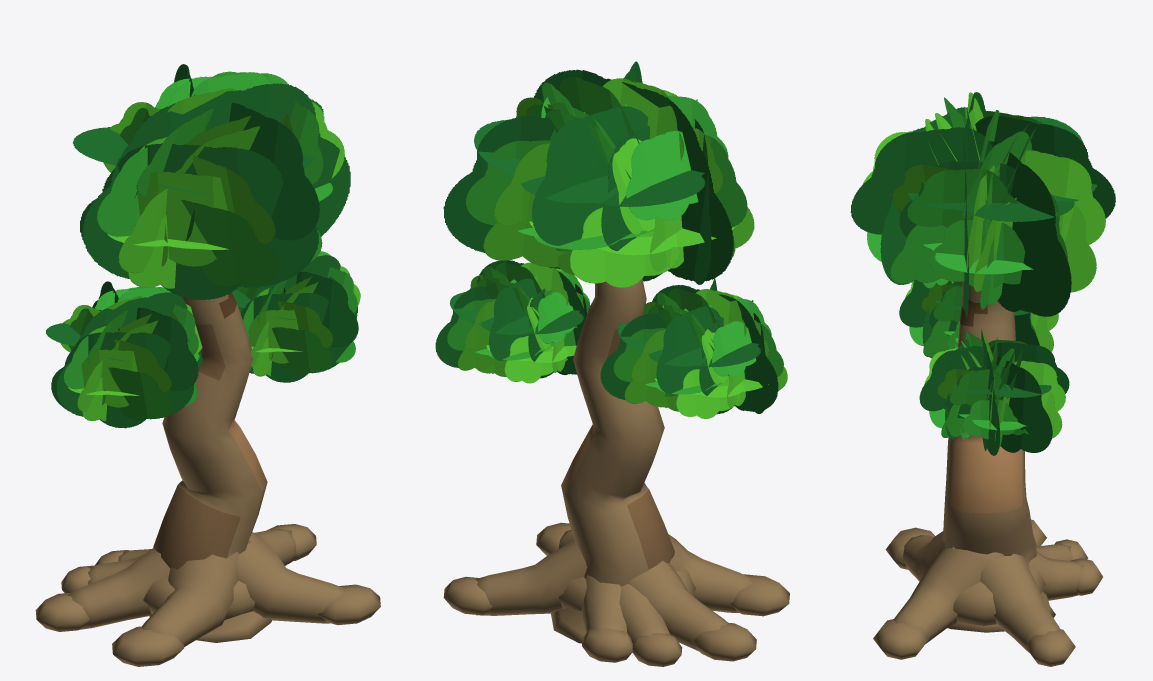
File: TREE_EUCALYPTUS_001_v015_LOD_CLOSE.glb
The picture shows the model from 3 angles, left to right: view 1: azimuth 30°, elevation 25°; view 2: azimuth 150°, elevation 25°; view 3: azimuth 270°, elevation 25°; orthographic projection. The views are drawn at different scales.
Parts seen in each view (by area): view 1: TREE_EUCALYPTUS_001_CLOSE_AUTHORED_FOLIAGE_ISLANDS, TREE_EUCALYPTUS_001_CLOSE_MAIN_TRUNK, TREE_EUCALYPTUS_001_CLOSE_ROOT_FRONT_LEFT, TREE_EUCALYPTUS_001_CLOSE_ROOT_FRONT_RIGHT, TREE_EUCALYPTUS_001_CLOSE_ROOT_LONG_LEFT, TREE_EUCALYPTUS_001_CLOSE_ROOT_TOE_FRONT_LEFT, TREE_EUCALYPTUS_001_CLOSE_ROOT_TOE_FRONT_RIGHT, TREE_EUCALYPTUS_001_CLOSE_ROOT_TOE_LONG_LEFT, TREE_EUCALYPTUS_001_CLOSE_SCULPTED_ROOT_COLLAR, TREE_EUCALYPTUS_001_CLOSE_BROAD_PLANTED_ROOT_MOUND, TREE_EUCALYPTUS_001_CLOSE_ROOT_RIGHT_SIDE, TREE_EUCALYPTUS_001_CLOSE_ROOT_TOE_RIGHT_SIDE (+2 smaller); view 2: TREE_EUCALYPTUS_001_CLOSE_AUTHORED_FOLIAGE_ISLANDS, TREE_EUCALYPTUS_001_CLOSE_MAIN_TRUNK, TREE_EUCALYPTUS_001_CLOSE_ROOT_RIGHT_SIDE, TREE_EUCALYPTUS_001_CLOSE_ROOT_LONG_LEFT, TREE_EUCALYPTUS_001_CLOSE_ROOT_FRONT_LEFT, TREE_EUCALYPTUS_001_CLOSE_ROOT_REAR_SHORT, TREE_EUCALYPTUS_001_CLOSE_ROOT_TOE_LONG_LEFT, TREE_EUCALYPTUS_001_CLOSE_ROOT_TOE_FRONT_LEFT, TREE_EUCALYPTUS_001_CLOSE_ROOT_LEFT_REAR, TREE_EUCALYPTUS_001_CLOSE_ROOT_TOE_REAR_SHORT, TREE_EUCALYPTUS_001_CLOSE_ROOT_TOE_LEFT_REAR, TREE_EUCALYPTUS_001_CLOSE_ROOT_TOE_RIGHT_SIDE (+3 smaller); view 3: TREE_EUCALYPTUS_001_CLOSE_AUTHORED_FOLIAGE_ISLANDS, TREE_EUCALYPTUS_001_CLOSE_MAIN_TRUNK, TREE_EUCALYPTUS_001_CLOSE_ROOT_FRONT_RIGHT, TREE_EUCALYPTUS_001_CLOSE_ROOT_RIGHT_SIDE, TREE_EUCALYPTUS_001_CLOSE_BROAD_PLANTED_ROOT_MOUND, TREE_EUCALYPTUS_001_CLOSE_ROOT_REAR_SHORT, TREE_EUCALYPTUS_001_CLOSE_ROOT_TOE_FRONT_RIGHT, TREE_EUCALYPTUS_001_CLOSE_ROOT_TOE_RIGHT_SIDE, TREE_EUCALYPTUS_001_CLOSE_ROOT_FRONT_LEFT, TREE_EUCALYPTUS_001_CLOSE_ROOT_TOE_FRONT_LEFT, TREE_EUCALYPTUS_001_CLOSE_ROOT_TOE_REAR_SHORT, TREE_EUCALYPTUS_001_CLOSE_SCULPTED_ROOT_COLLAR (+1 smaller).
Part boxes in pixels (box(x1,y1,x2,y2)): TREE_EUCALYPTUS_001_CLOSE_AUTHORED_FOLIAGE_ISLANDS: box(46, 64, 360, 428); TREE_EUCALYPTUS_001_CLOSE_MAIN_TRUNK: box(153, 292, 267, 569); TREE_EUCALYPTUS_001_CLOSE_ROOT_FRONT_LEFT: box(142, 540, 250, 646); TREE_EUCALYPTUS_001_CLOSE_ROOT_FRONT_RIGHT: box(236, 532, 346, 623); TREE_EUCALYPTUS_001_CLOSE_ROOT_LONG_LEFT: box(67, 548, 170, 629); TREE_EUCALYPTUS_001_CLOSE_ROOT_TOE_FRONT_LEFT: box(112, 626, 184, 666); TREE_EUCALYPTUS_001_CLOSE_ROOT_TOE_FRONT_RIGHT: box(318, 584, 380, 625); TREE_EUCALYPTUS_001_CLOSE_ROOT_TOE_LONG_LEFT: box(35, 592, 89, 631); TREE_EUCALYPTUS_001_CLOSE_SCULPTED_ROOT_COLLAR: box(149, 611, 272, 642); TREE_EUCALYPTUS_001_CLOSE_BROAD_PLANTED_ROOT_MOUND: box(143, 577, 254, 619); TREE_EUCALYPTUS_001_CLOSE_ROOT_RIGHT_SIDE: box(252, 529, 295, 565); TREE_EUCALYPTUS_001_CLOSE_ROOT_TOE_RIGHT_SIDE: box(266, 524, 316, 560); TREE_EUCALYPTUS_001_CLOSE_AUTHORED_FOLIAGE_ISLANDS: box(435, 61, 787, 418); TREE_EUCALYPTUS_001_CLOSE_MAIN_TRUNK: box(561, 279, 674, 586); TREE_EUCALYPTUS_001_CLOSE_ROOT_RIGHT_SIDE: box(475, 540, 587, 615); TREE_EUCALYPTUS_001_CLOSE_ROOT_LONG_LEFT: box(629, 560, 727, 651); TREE_EUCALYPTUS_001_CLOSE_ROOT_FRONT_LEFT: box(668, 534, 752, 612); TREE_EUCALYPTUS_001_CLOSE_ROOT_REAR_SHORT: box(581, 575, 627, 632); TREE_EUCALYPTUS_001_CLOSE_ROOT_TOE_LONG_LEFT: box(692, 622, 756, 661); TREE_EUCALYPTUS_001_CLOSE_ROOT_TOE_FRONT_LEFT: box(730, 574, 789, 616); TREE_EUCALYPTUS_001_CLOSE_ROOT_LEFT_REAR: box(619, 584, 669, 643); TREE_EUCALYPTUS_001_CLOSE_ROOT_TOE_REAR_SHORT: box(582, 628, 632, 662); TREE_EUCALYPTUS_001_CLOSE_ROOT_TOE_LEFT_REAR: box(632, 633, 682, 666); TREE_EUCALYPTUS_001_CLOSE_ROOT_TOE_RIGHT_SIDE: box(443, 576, 492, 615); TREE_EUCALYPTUS_001_CLOSE_AUTHORED_FOLIAGE_ISLANDS: box(850, 92, 1115, 455); TREE_EUCALYPTUS_001_CLOSE_MAIN_TRUNK: box(942, 281, 1036, 567); TREE_EUCALYPTUS_001_CLOSE_ROOT_FRONT_RIGHT: box(894, 548, 1004, 643); TREE_EUCALYPTUS_001_CLOSE_ROOT_RIGHT_SIDE: box(980, 553, 1059, 652); TREE_EUCALYPTUS_001_CLOSE_BROAD_PLANTED_ROOT_MOUND: box(953, 568, 1045, 625); TREE_EUCALYPTUS_001_CLOSE_ROOT_REAR_SHORT: box(1028, 551, 1084, 600); TREE_EUCALYPTUS_001_CLOSE_ROOT_TOE_FRONT_RIGHT: box(873, 619, 929, 659); TREE_EUCALYPTUS_001_CLOSE_ROOT_TOE_RIGHT_SIDE: box(1025, 629, 1075, 666); TREE_EUCALYPTUS_001_CLOSE_ROOT_FRONT_LEFT: box(902, 531, 955, 581); TREE_EUCALYPTUS_001_CLOSE_ROOT_TOE_FRONT_LEFT: box(885, 527, 934, 569); TREE_EUCALYPTUS_001_CLOSE_ROOT_TOE_REAR_SHORT: box(1070, 558, 1102, 595); TREE_EUCALYPTUS_001_CLOSE_SCULPTED_ROOT_COLLAR: box(948, 591, 1055, 632).
Size of the model in its own units: 4.13 by 6.57 by 3.3.
Materials: 5 (1 with a texture image).
